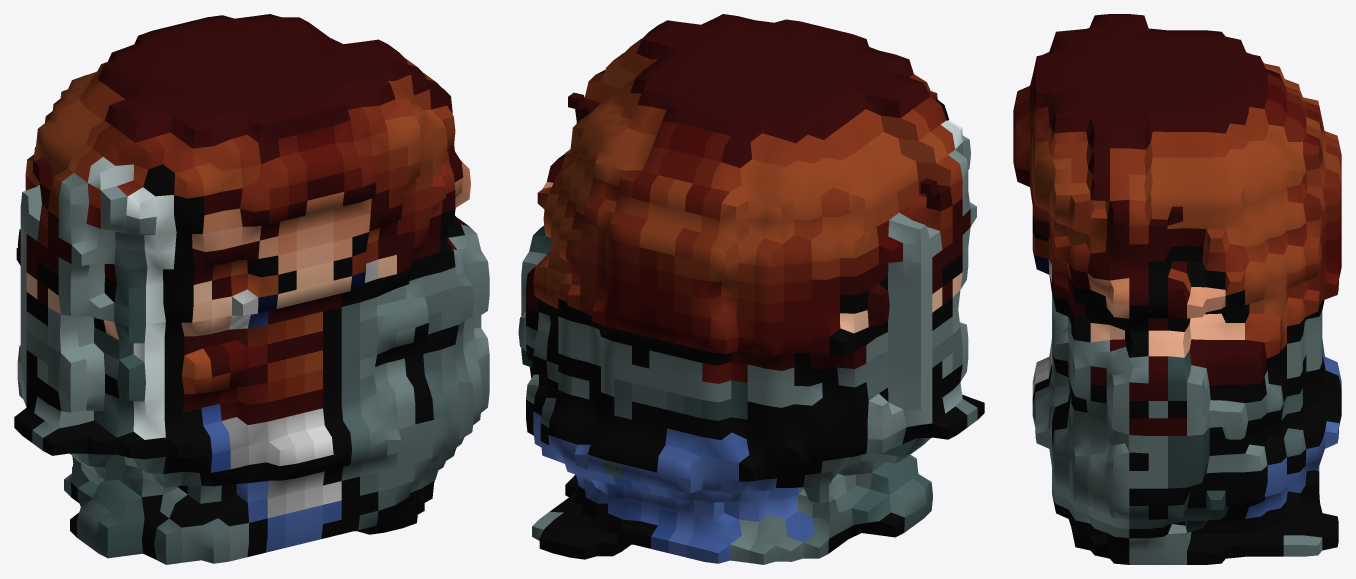
Rendered from Icon_029_01.obj.
3 views of the same model, side by side, from view 1: azimuth 30°, elevation 25°; view 2: azimuth 150°, elevation 25°; view 3: azimuth 270°, elevation 25° (orthographic). The views are drawn at different scales.
Bounding box in the file's own units: 2.38 × 2.4 × 1.7.
1 material, 1 textured.
